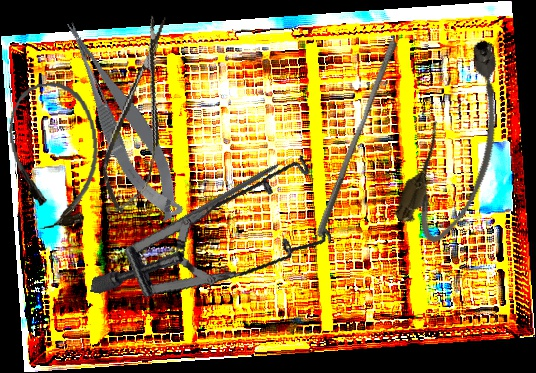Cannula: (389, 33, 533, 251), (4, 78, 106, 232)
Hook Surgical: (151, 149, 303, 241)
Micro Scissor: (57, 8, 190, 231), (92, 11, 189, 218)
Pusher: (314, 36, 399, 242)
Speculum: (90, 118, 347, 339)
